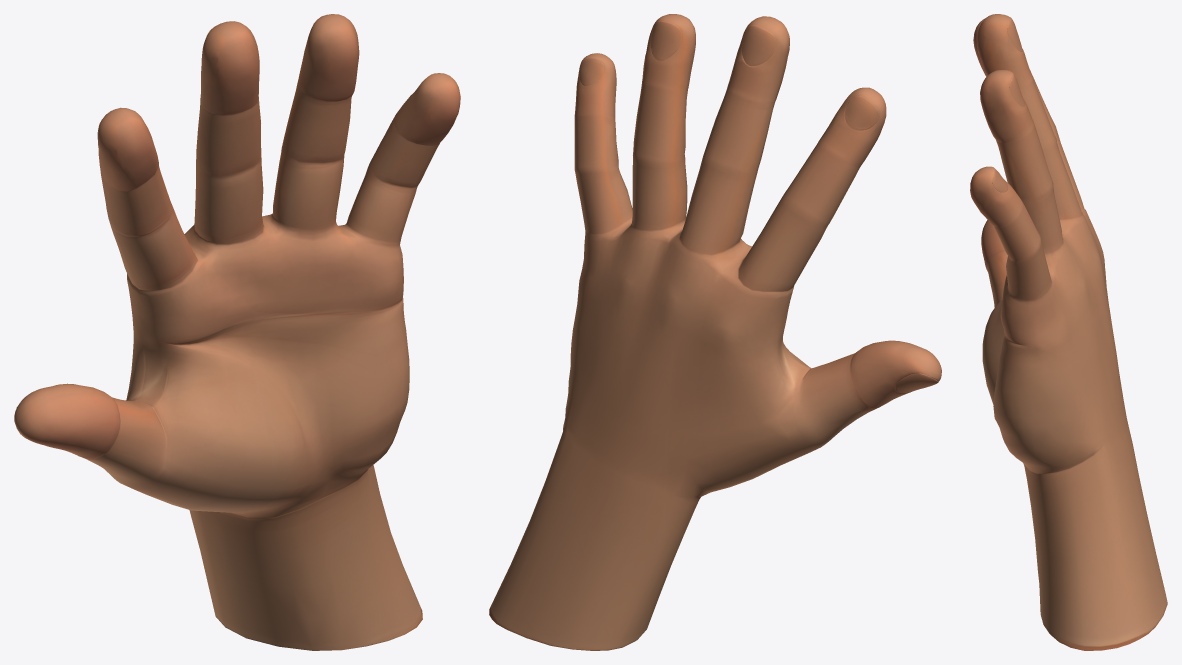
File: hand_3d_model.fbx
3 views of the same model, side by side, from view 1: azimuth 30°, elevation 25°; view 2: azimuth 150°, elevation 25°; view 3: azimuth 270°, elevation 25° (orthographic). The views are drawn at different scales.
Parts seen in each view (by area): view 1: tripo_9b0fd2a2_31fb_4776_bd01_19462084bef3; view 2: tripo_9b0fd2a2_31fb_4776_bd01_19462084bef3; view 3: tripo_9b0fd2a2_31fb_4776_bd01_19462084bef3.
Part boxes in pixels (left/top/right/bottom): tripo_9b0fd2a2_31fb_4776_bd01_19462084bef3: left=14, top=14, right=460, bottom=650; tripo_9b0fd2a2_31fb_4776_bd01_19462084bef3: left=489, top=14, right=941, bottom=650; tripo_9b0fd2a2_31fb_4776_bd01_19462084bef3: left=970, top=14, right=1167, bottom=650.
Bounding box in the file's own units: 0.6909 × 0.9995 × 0.3315.
Materials: 1 (1 with a texture image).
